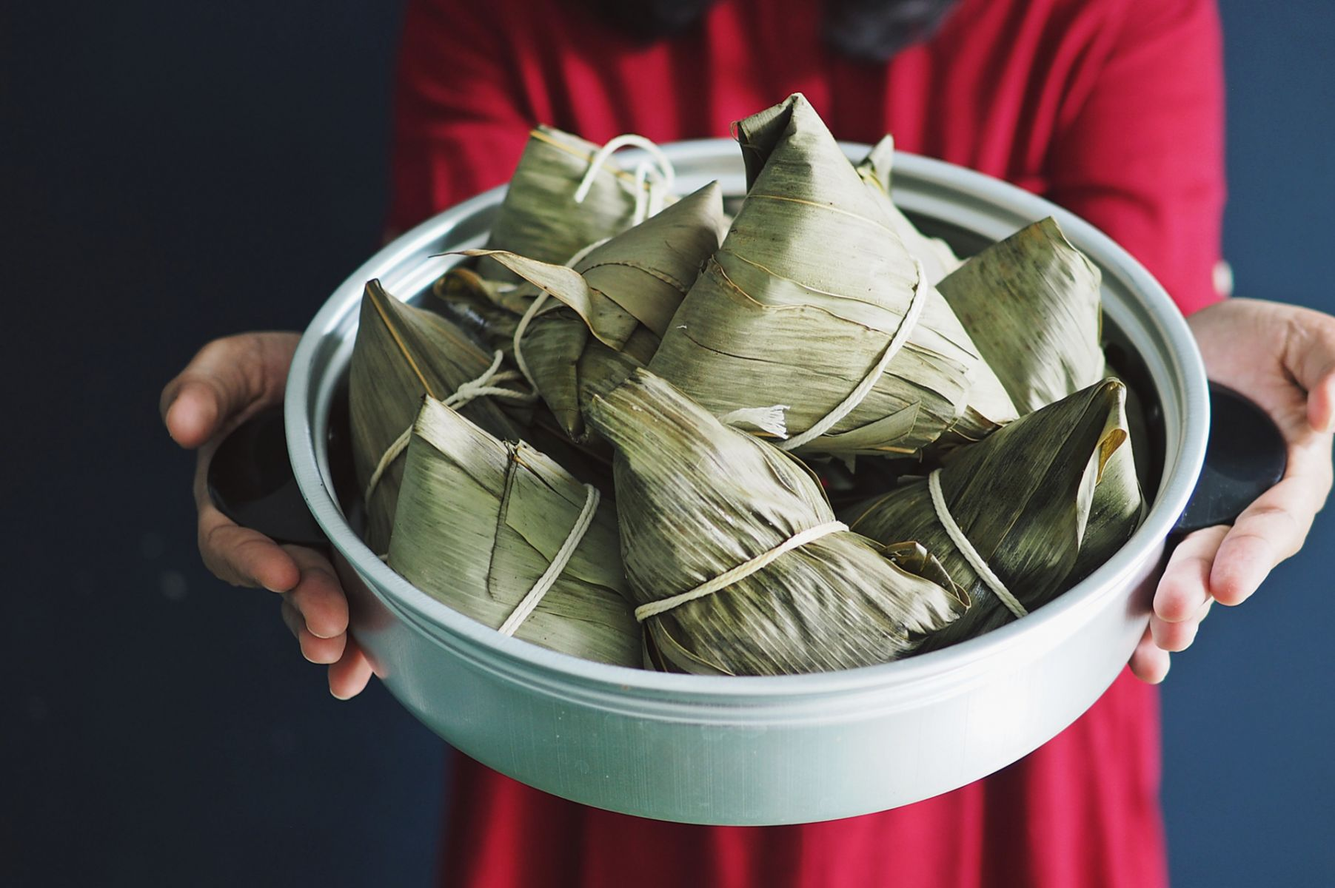zongzi: (649, 93, 1012, 457), (586, 369, 963, 674), (844, 378, 1126, 651), (388, 397, 640, 666), (469, 184, 726, 439), (349, 279, 494, 551), (935, 217, 1106, 414), (486, 125, 649, 263), (448, 364, 528, 438)
